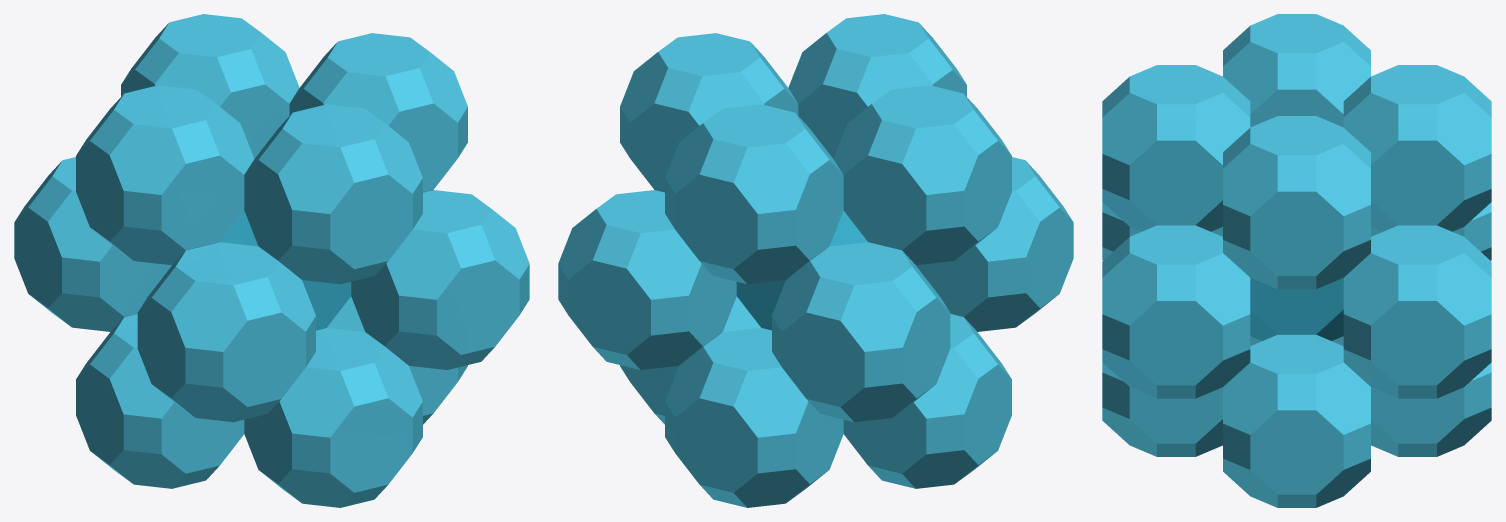
Rendered from fractaltruncatedcuboctahedron1.glb.
3 renders of one model, left to right at view 1: azimuth 30°, elevation 25°; view 2: azimuth 150°, elevation 25°; view 3: azimuth 270°, elevation 25°, orthographic. The views are drawn at different scales.
Size of the model in its own units: 8.71 by 8.71 by 8.71.
